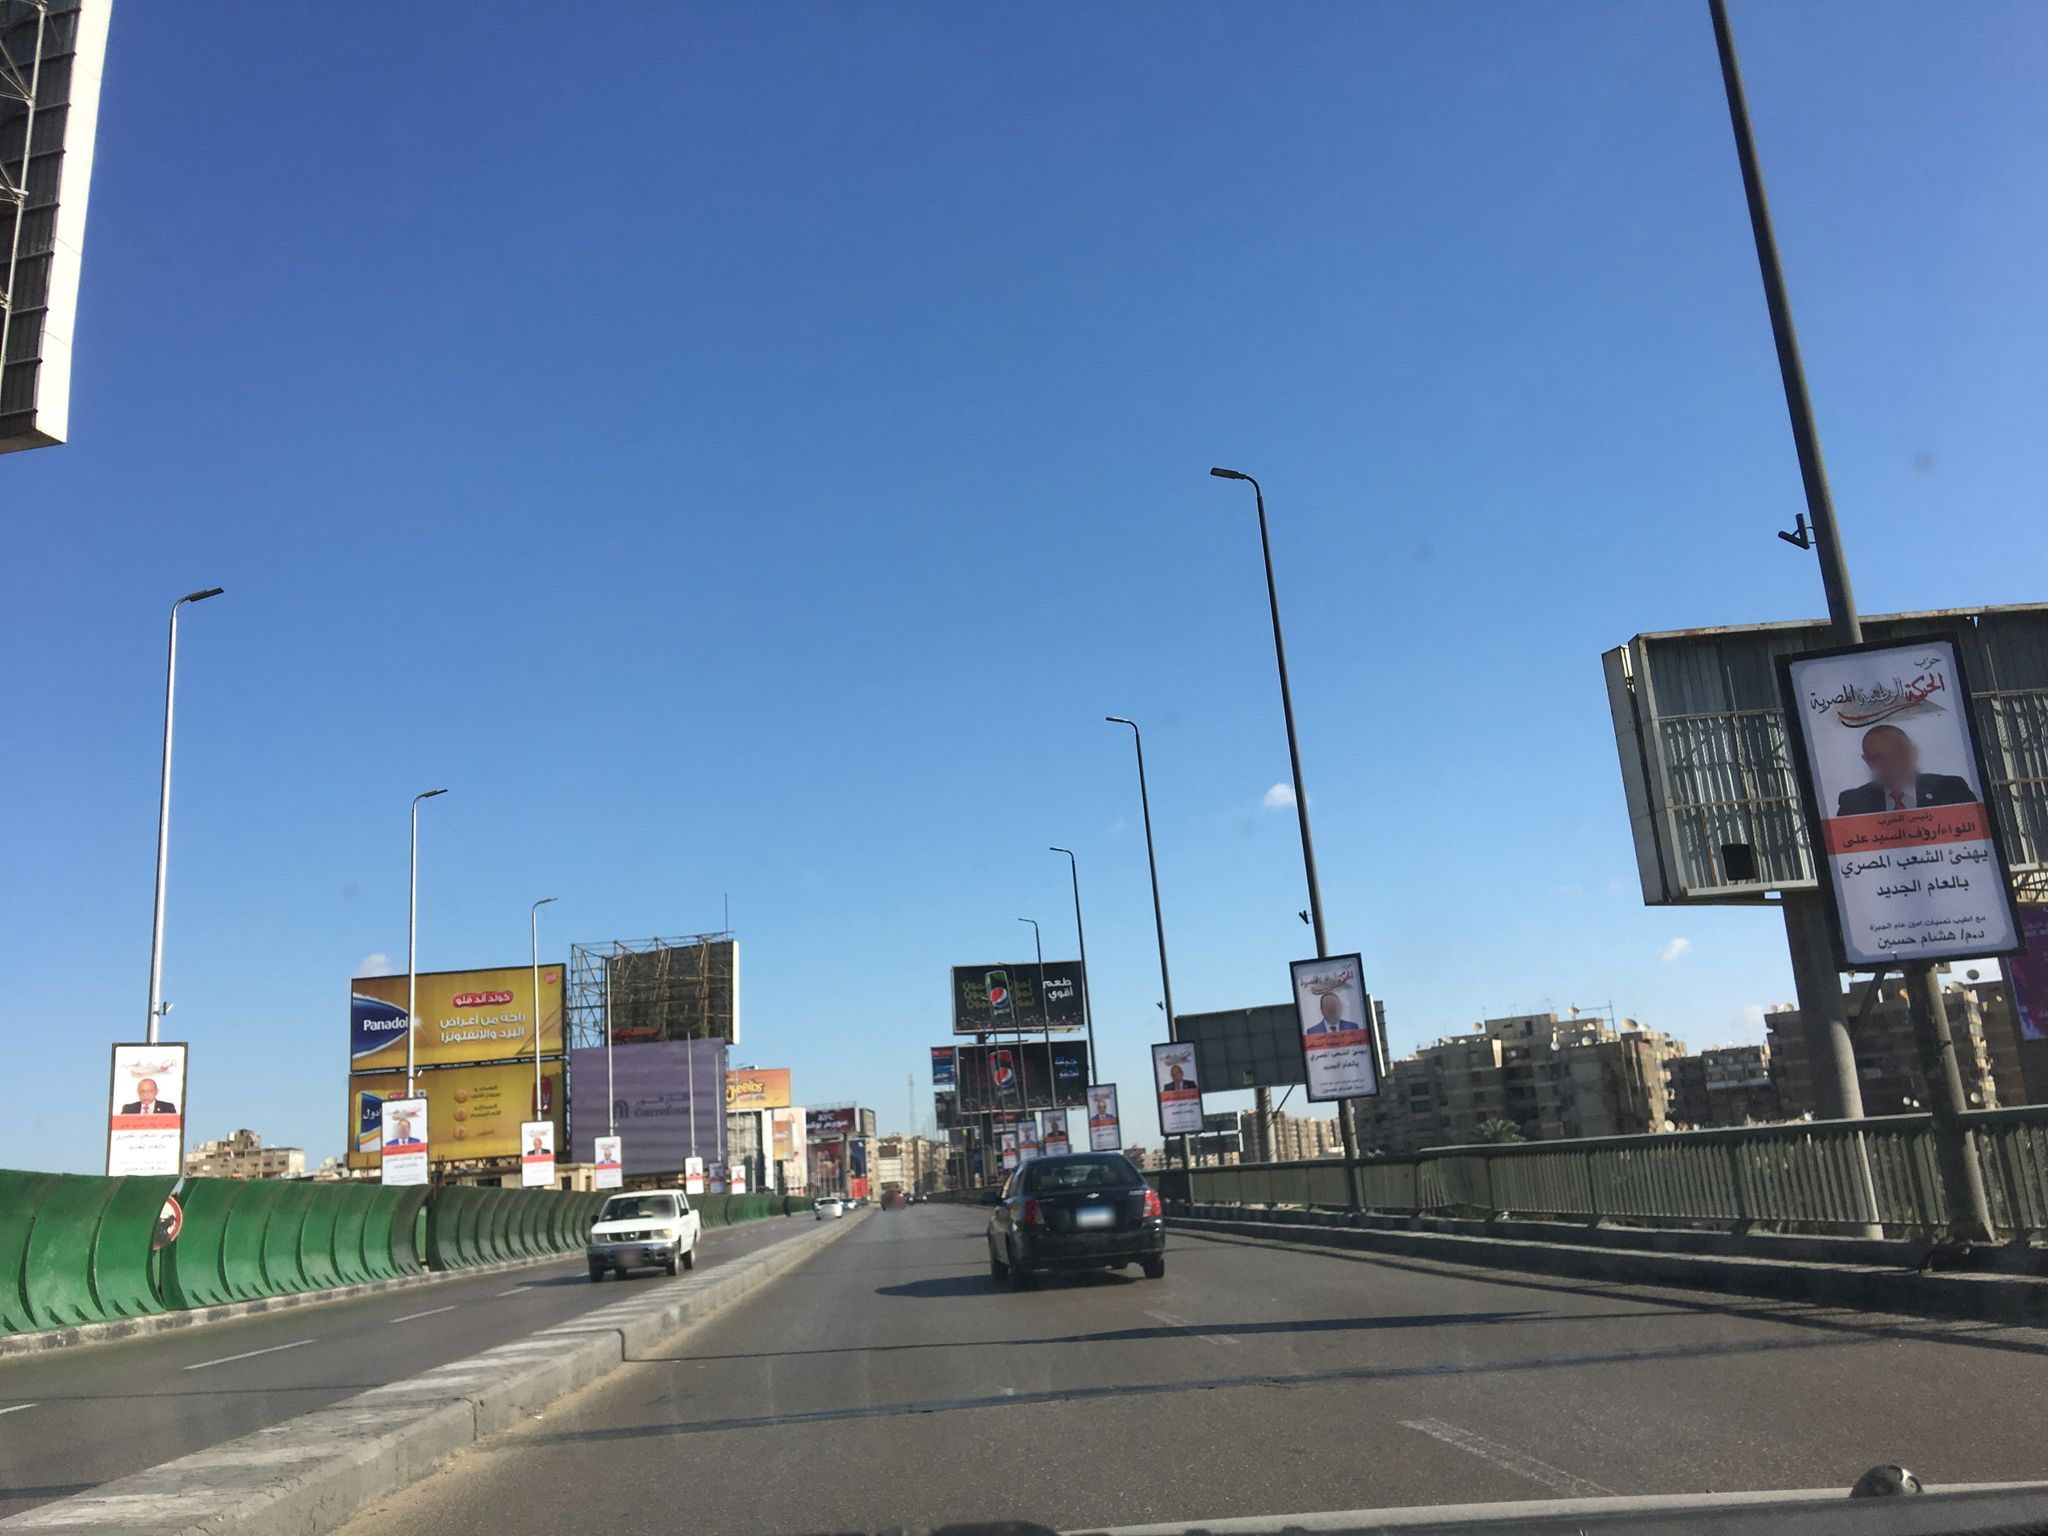car: (984, 1152, 1168, 1283), (813, 1196, 843, 1217)
truck: (585, 1187, 701, 1275)
